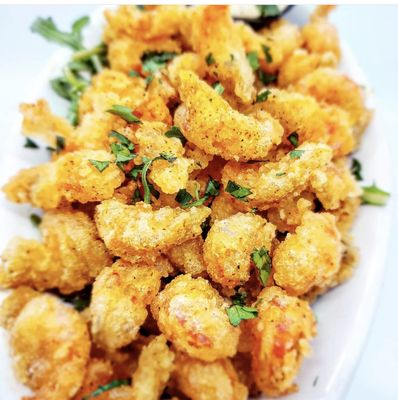sandwich: (4, 5, 370, 399)
